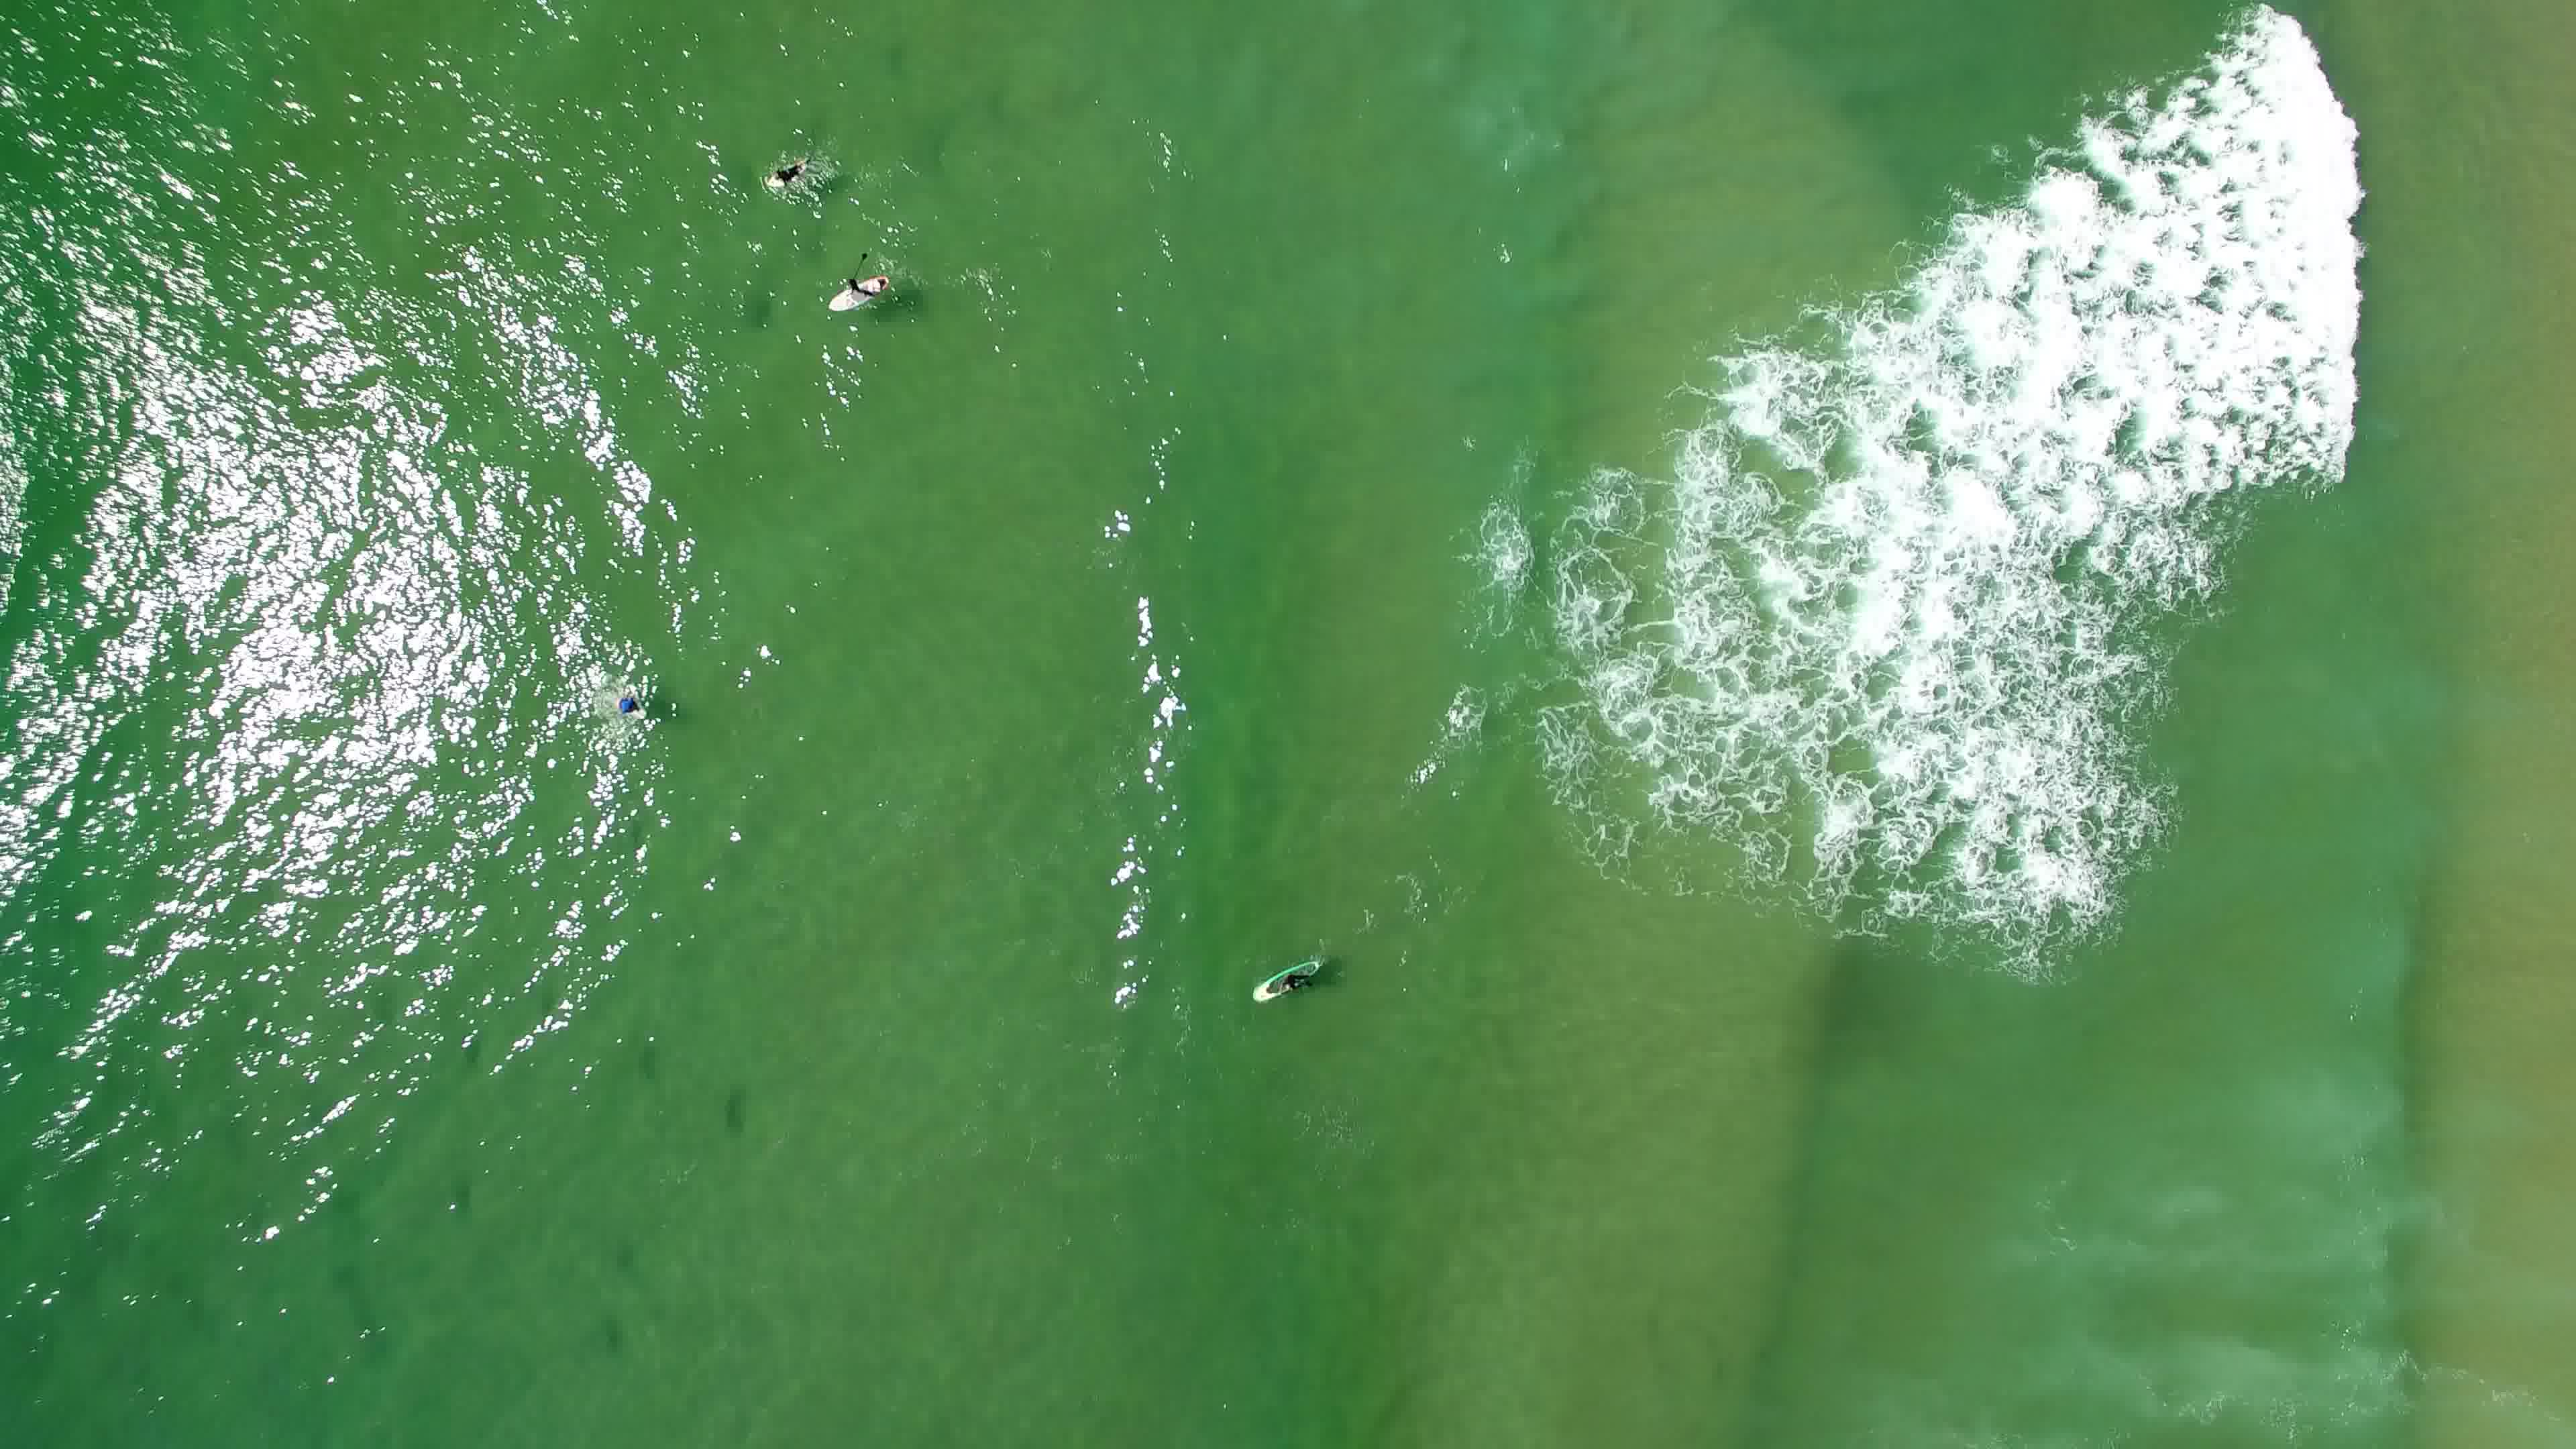surfer: (819, 251, 893, 320), (755, 147, 835, 202), (1247, 957, 1325, 1005), (584, 679, 662, 727)
